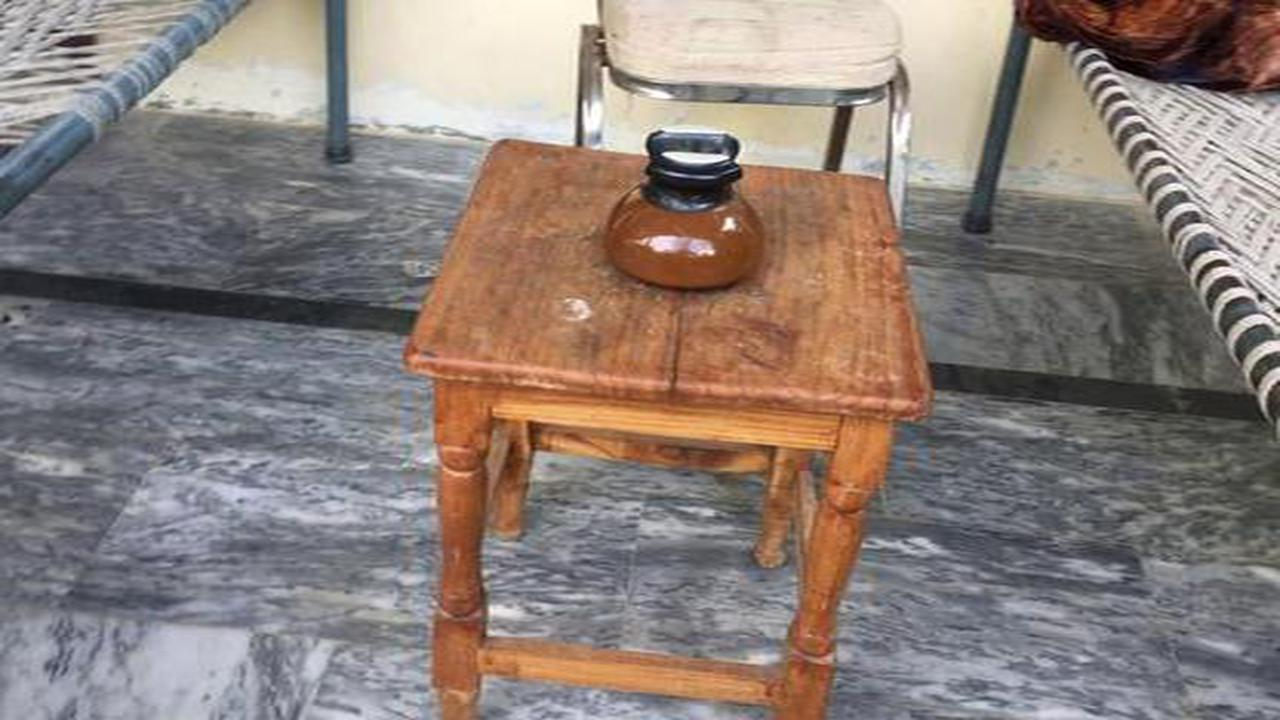insulator_pin: (594, 115, 779, 302)
